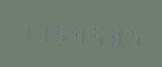eight: (71, 19, 88, 47), (107, 21, 124, 49)
five: (89, 20, 106, 48), (125, 22, 142, 50)
seven: (17, 16, 34, 44)
six: (53, 18, 70, 46)
three: (35, 17, 52, 45)
